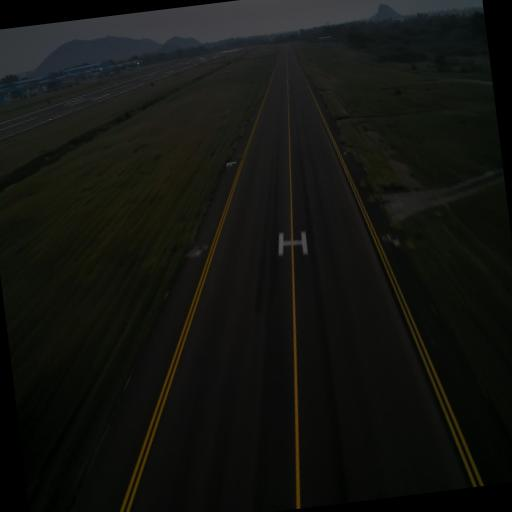on: (195, 242, 202, 254), (395, 233, 400, 243)
